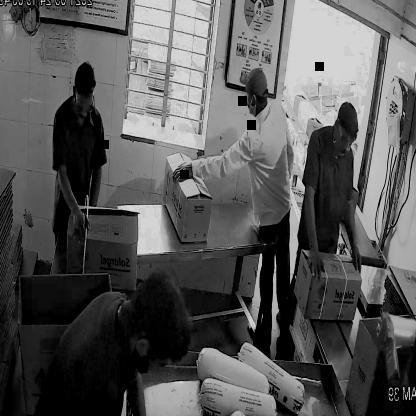goggles: (336, 129, 358, 152)
